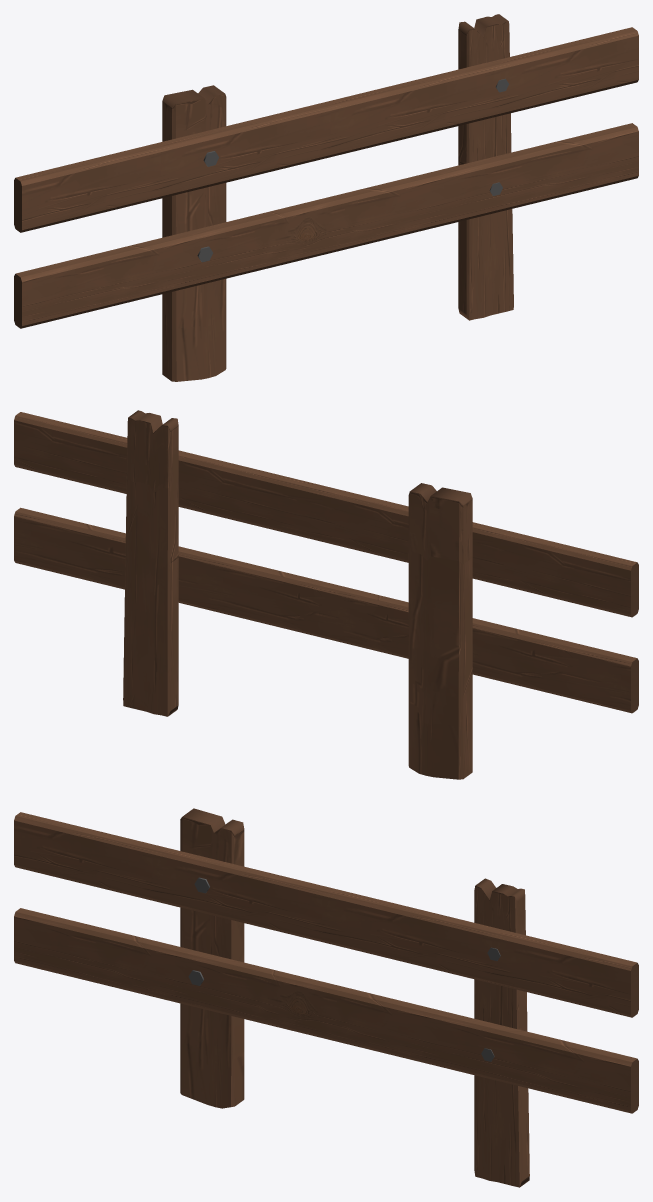
The model's file is High Fence.FBX.
3 views of the same model, one above another, from view 1: azimuth 30°, elevation 25°; view 2: azimuth 150°, elevation 25°; view 3: azimuth 330°, elevation 25° (orthographic).
Parts seen in each view (by area): view 1: Box039; view 2: Box039; view 3: Box039.
Part boxes in pixels (x1=…): Box039: x1=14, y1=14, x2=638, y2=381; Box039: x1=14, y1=410, x2=638, y2=779; Box039: x1=14, y1=808, x2=638, y2=1187.
Size of the model in its own units: 30.5 by 13.78 by 1.73.
